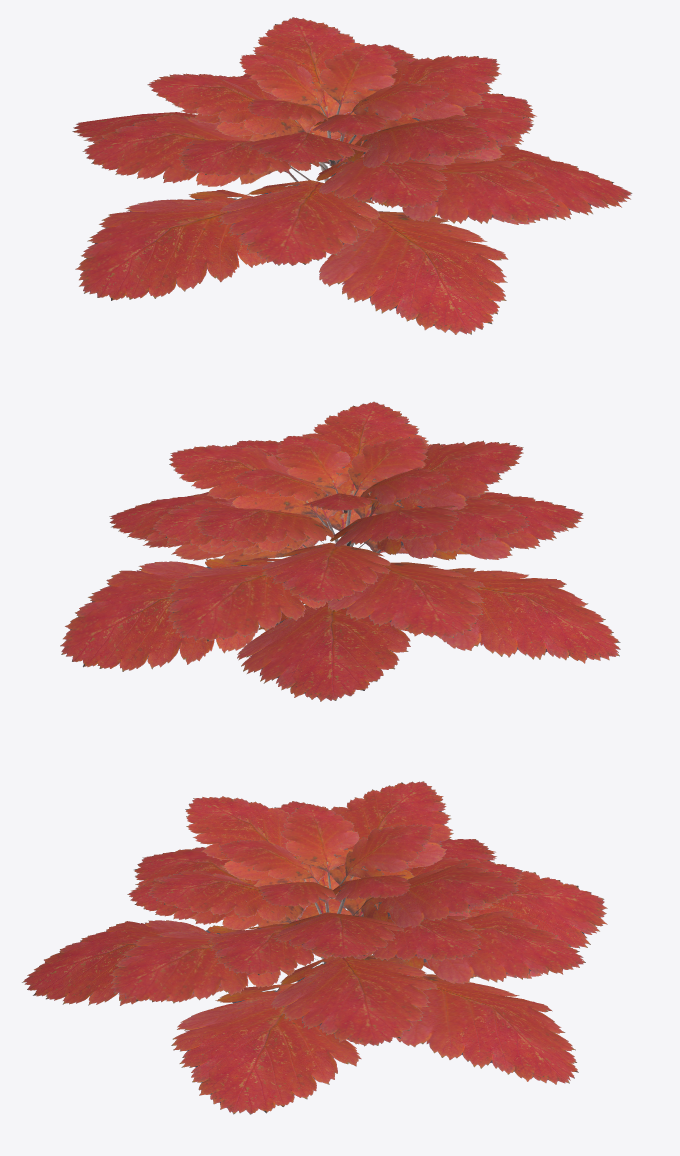
File: bush.fbx
3 renders of one model, top to bottom at view 1: azimuth 30°, elevation 25°; view 2: azimuth 150°, elevation 25°; view 3: azimuth 270°, elevation 25°, orthographic. The views are drawn at different scales.
Visible parts, largest first — view 1: bush; view 2: bush; view 3: bush.
Boxes of the visible parts, x1=… form: bush: x1=72, y1=17, x2=632, y2=334; bush: x1=60, y1=401, x2=620, y2=701; bush: x1=22, y1=781, x2=607, y2=1114.
Bounding box in the file's own units: 0.1552 × 0.0446 × 0.1526.
Materials: 1 (1 with a texture image).
